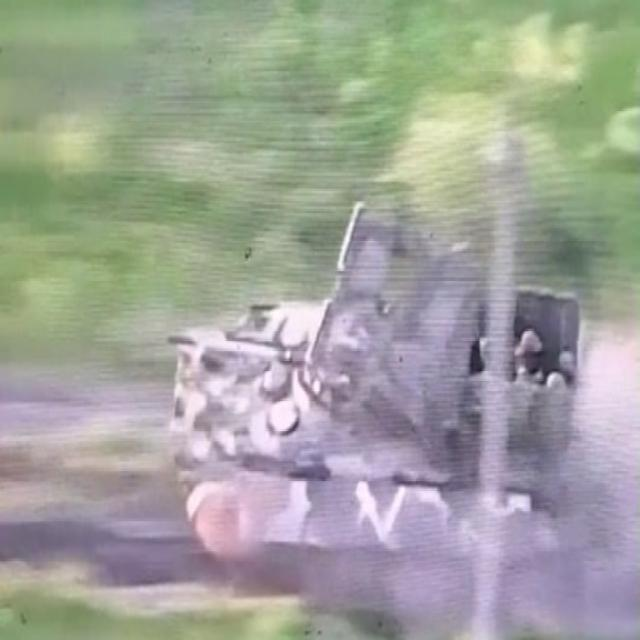APC-IFV: (153, 220, 588, 600)
